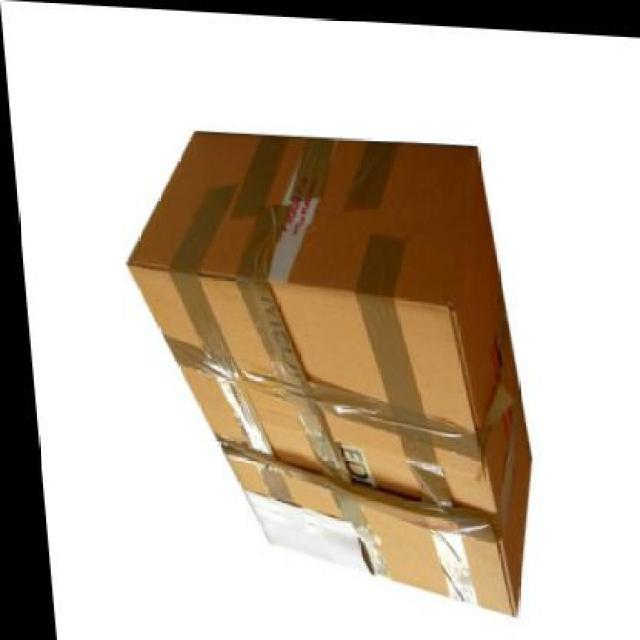box: (112, 117, 564, 618)
